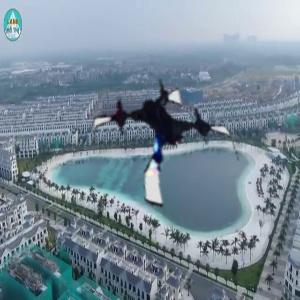drone: (90, 70, 240, 220)
